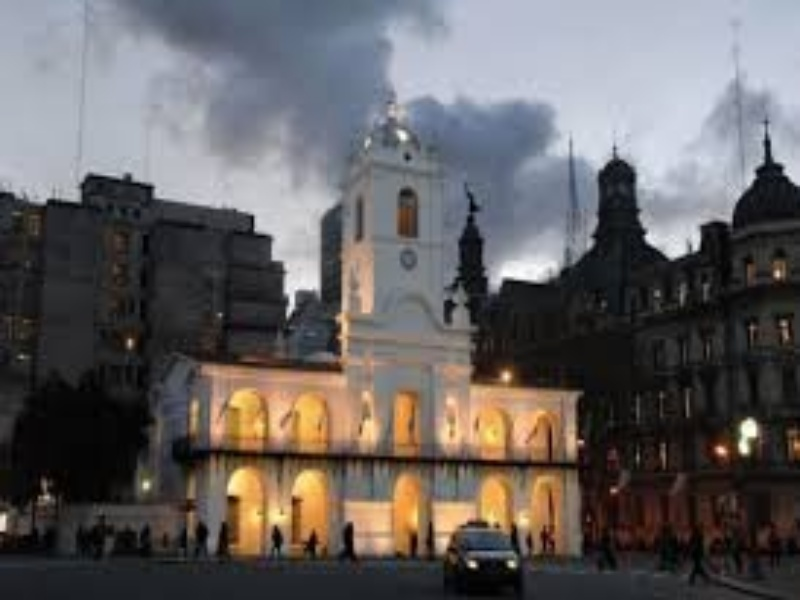cabildo: (146, 93, 592, 566)
